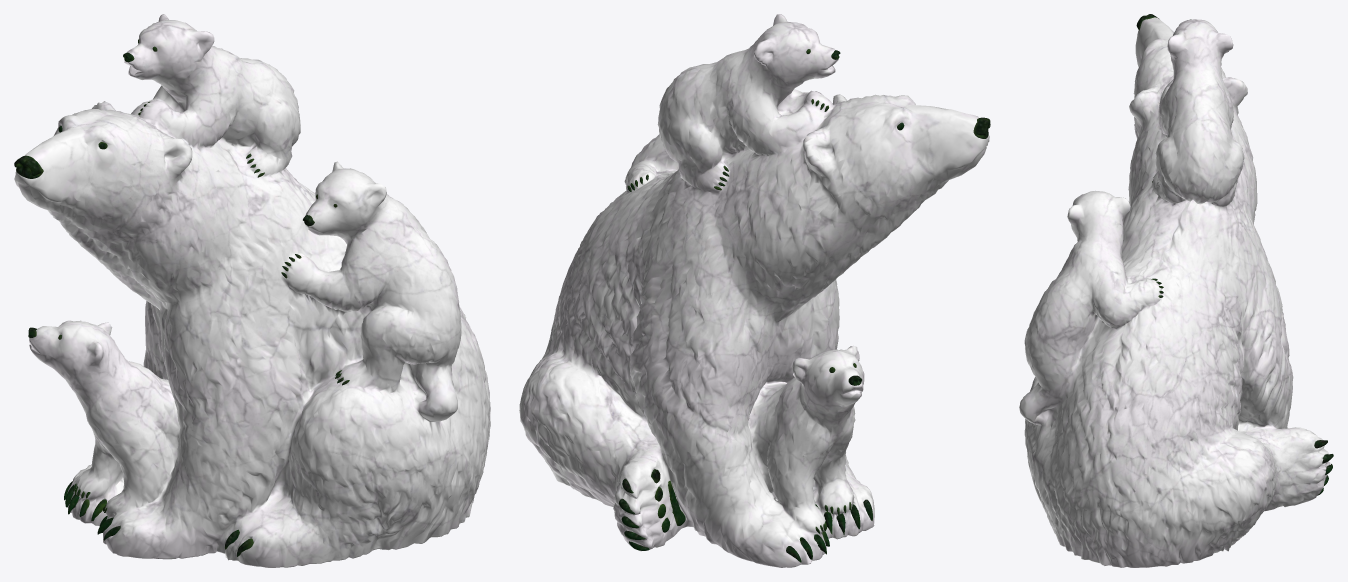
Rendered from statue13896.glb.
3 renders of one model, left to right at view 1: azimuth 30°, elevation 25°; view 2: azimuth 150°, elevation 25°; view 3: azimuth 270°, elevation 25°, orthographic. The views are drawn at different scales.
Visible parts, largest first — view 1: fathom___white_gold_decimated.004; view 2: fathom___white_gold_decimated.004; view 3: fathom___white_gold_decimated.004.
Part boxes in pixels (x1,y1,x2,y2): fathom___white_gold_decimated.004: [14, 14, 490, 567]; fathom___white_gold_decimated.004: [519, 14, 990, 567]; fathom___white_gold_decimated.004: [1019, 14, 1333, 567].
Bounding box in the file's own units: 0.5703 × 0.6096 × 0.3973.
Materials: 1 (1 with a texture image).
